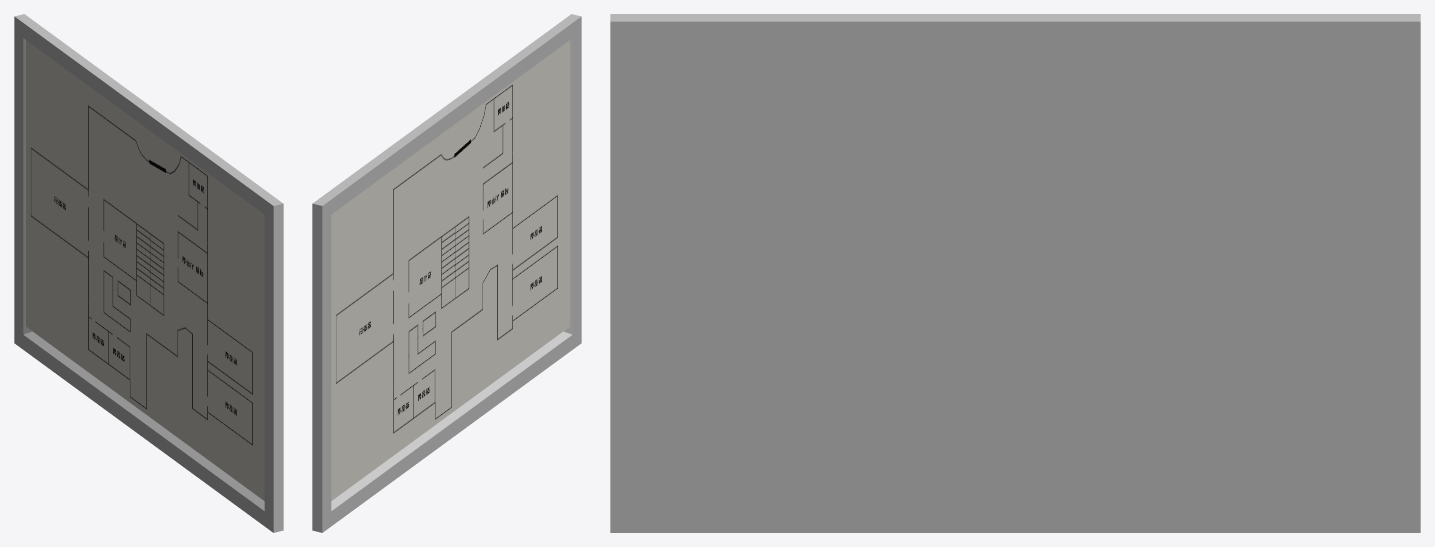
Rendered from Map_1stFloor.fbx.
The picture shows the model from 3 angles, left to right: view 1: azimuth 30°, elevation 25°; view 2: azimuth 150°, elevation 25°; view 3: azimuth 270°, elevation 25°; orthographic projection. The views are drawn at different scales.
Visible parts, largest first — view 1: Map1stFloor, MapFrame; view 2: Map1stFloor, MapFrame; view 3: MapFrame.
Part boxes in pixels (x1=…): Map1stFloor: x1=26, y1=40, x2=264, y2=500; MapFrame: x1=14, y1=14, x2=283, y2=532; Map1stFloor: x1=331, y1=40, x2=569, y2=500; MapFrame: x1=312, y1=14, x2=581, y2=532; MapFrame: x1=610, y1=14, x2=1420, y2=532.
Bounding box in the file's own units: 2.69 × 84.38 × 121.
